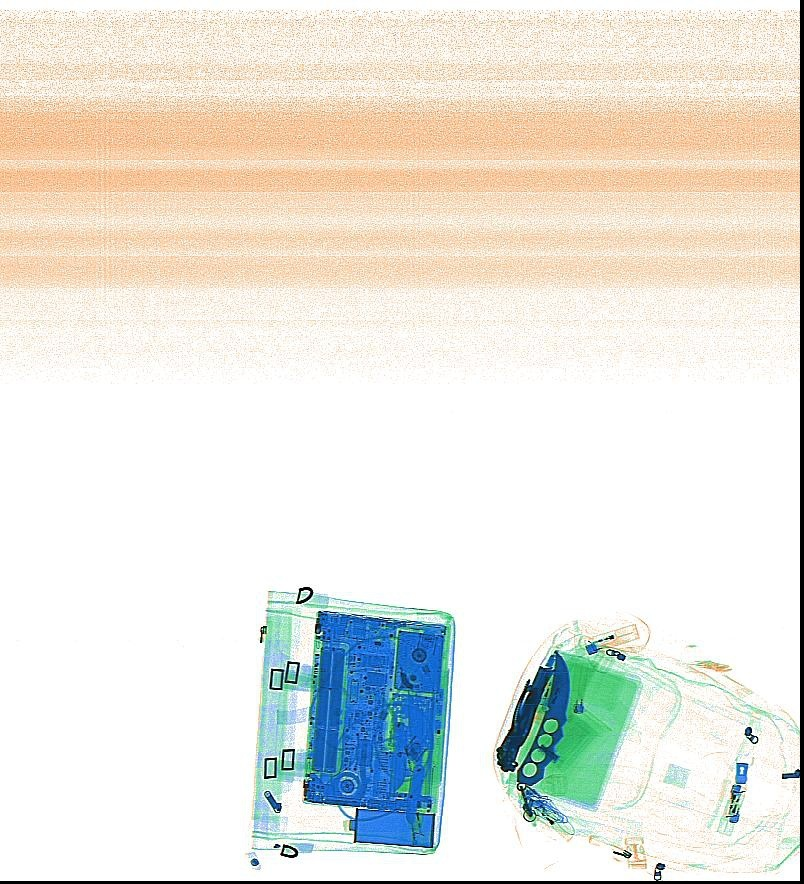handcuffs: (494, 675, 539, 771)
knife: (515, 650, 569, 782), (516, 664, 554, 731), (401, 761, 423, 824)
lighter: (583, 621, 640, 655), (571, 669, 585, 713)
zippooil: (345, 806, 435, 848)
